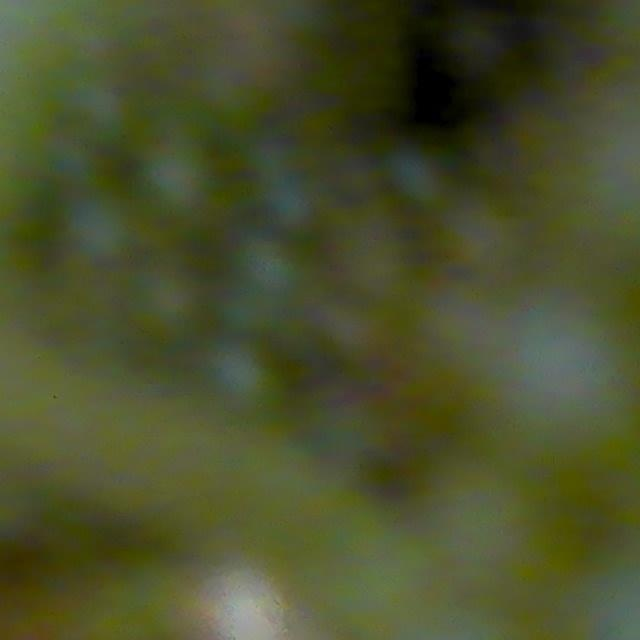SeaGrape: (458, 304, 635, 484), (424, 442, 584, 622), (139, 138, 217, 220), (63, 191, 139, 267), (212, 326, 284, 402), (230, 236, 306, 308)
